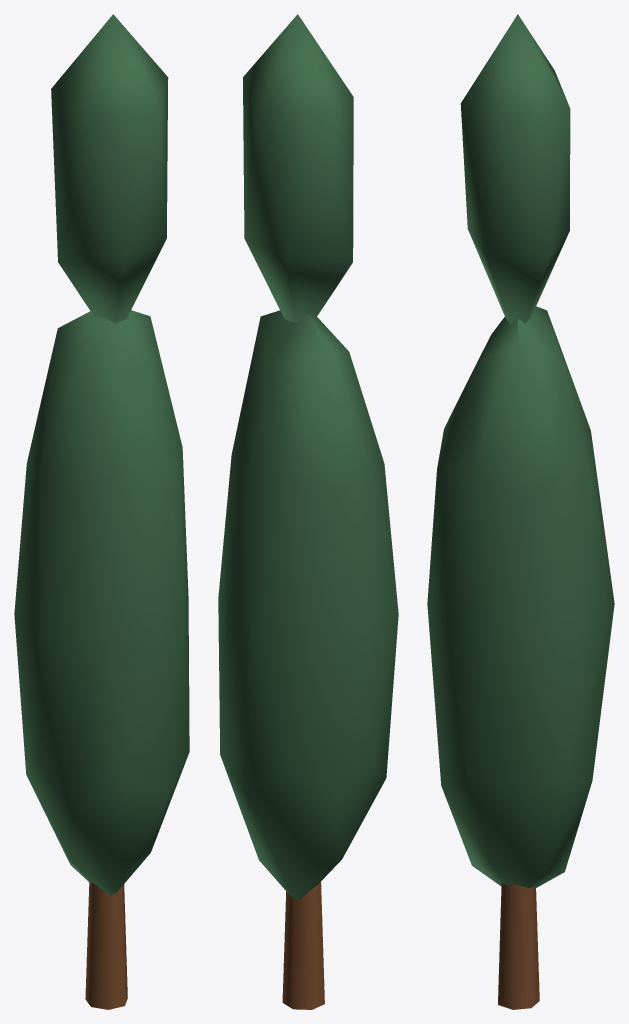
Rendered from tree-cypress.glb.
3 renders of one model, left to right at view 1: azimuth 30°, elevation 25°; view 2: azimuth 150°, elevation 25°; view 3: azimuth 270°, elevation 25°, orthographic.
Parts seen in each view (by area): view 1: tree-cypress; view 2: tree-cypress; view 3: tree-cypress.
Boxes of the visible parts, box(x1,y1,x2,y2) form: tree-cypress: box(14, 14, 189, 1009); tree-cypress: box(218, 14, 398, 1009); tree-cypress: box(427, 14, 614, 1009).
Bounding box in the file's own units: 1.21 × 7.48 × 1.28.
